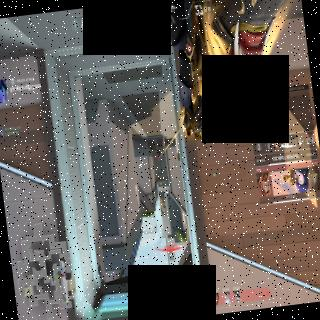ENEMY-BODY: (157, 148, 162, 162)
ENEMY-HEAD: (159, 160, 161, 162)
